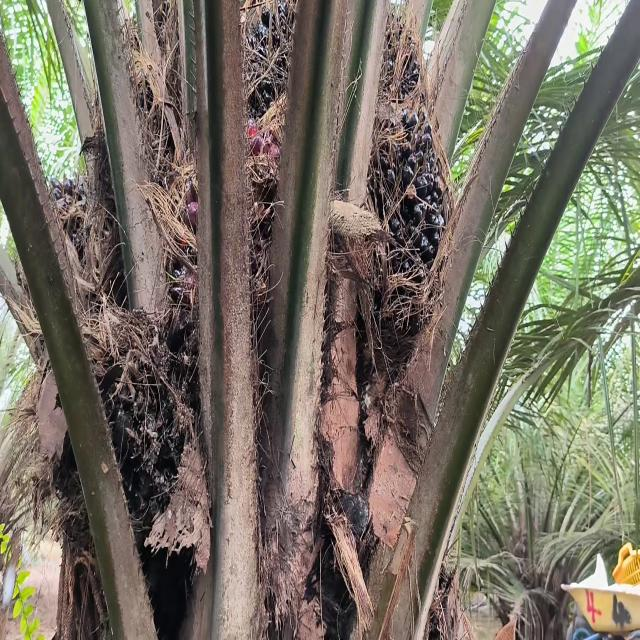palm-oil: (35, 328, 210, 598), (187, 126, 306, 425), (354, 112, 445, 367), (244, 0, 317, 121)
